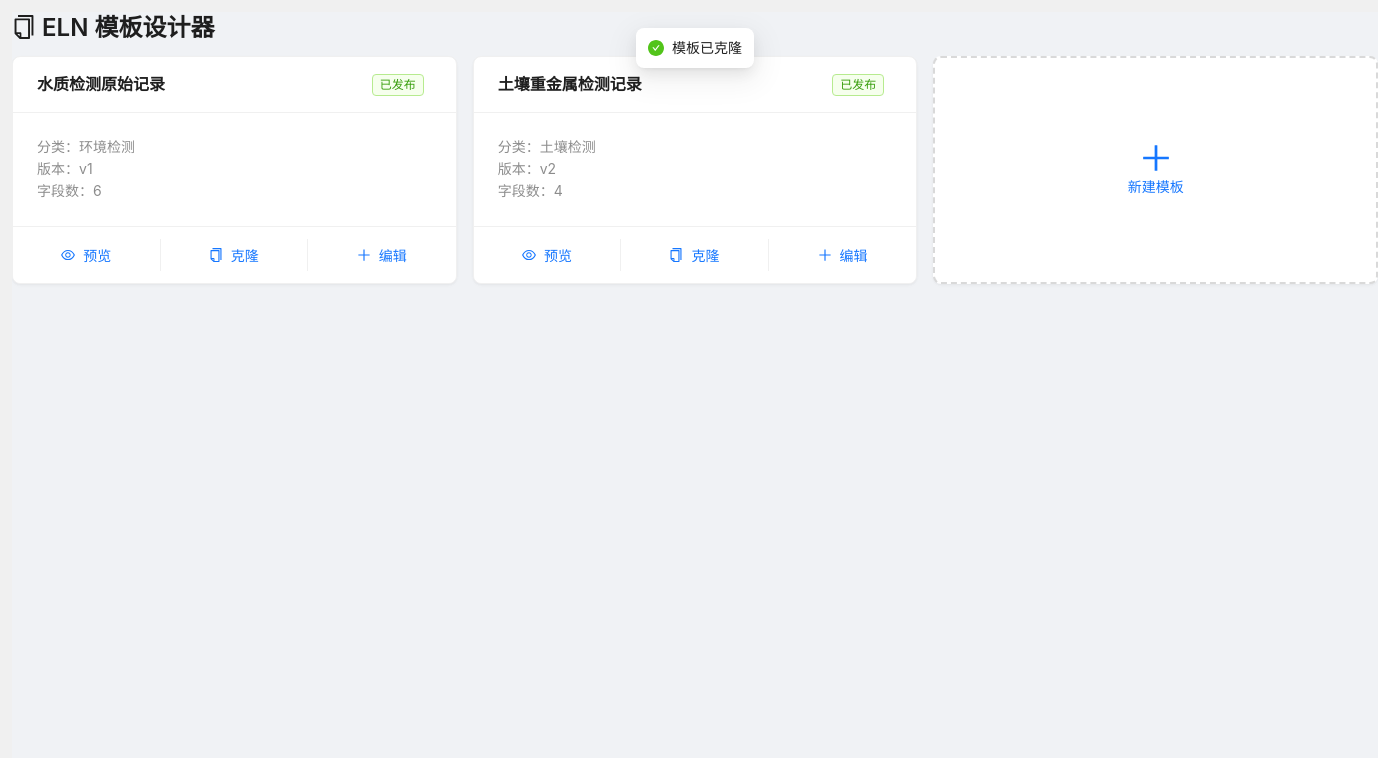
Test: TemplateDesignerPage › enters edit mode
Click the button "编辑" below "环境检测" at (382, 255), box [341,239,423,271]
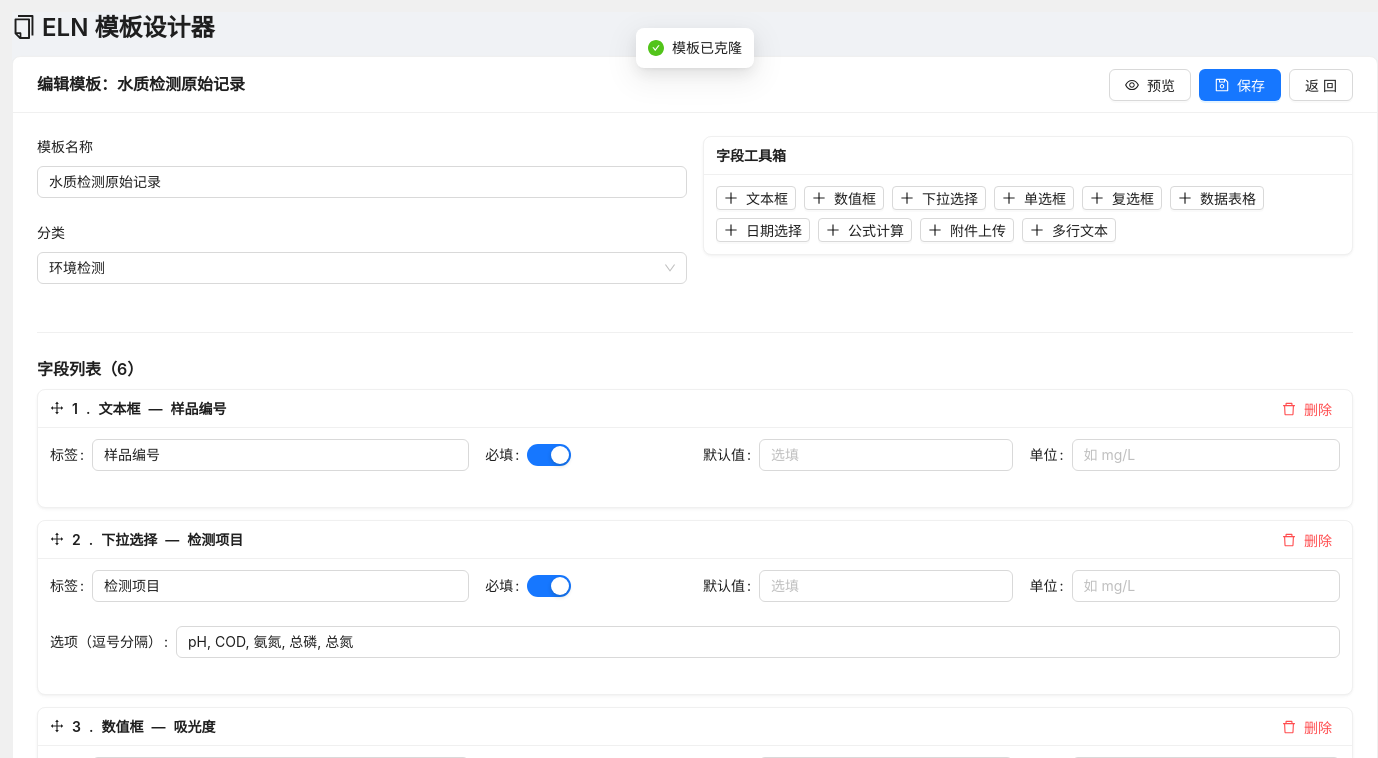
Now the text "编辑模板：水质检测原始记录" is shown, box [37,74,245,94]
Now the text "字段工具箱" is shown, box [716,146,786,164]
